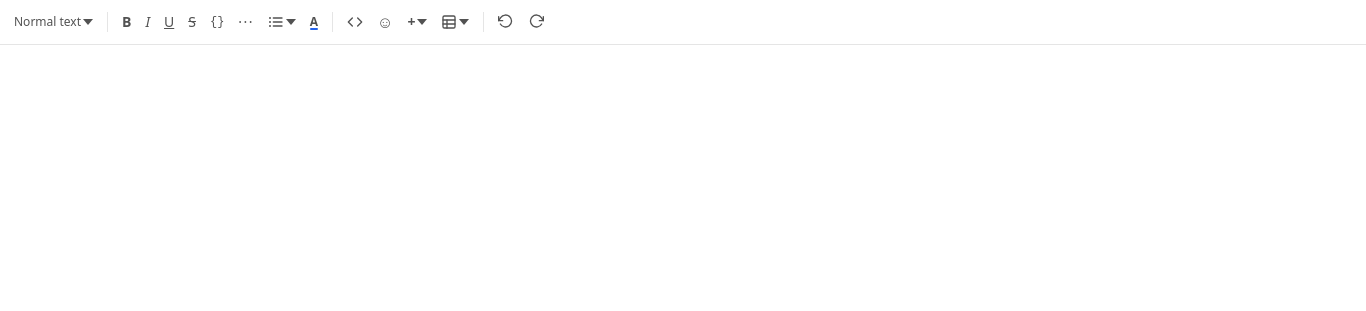
Test case: EditorToolbar › TableMenu opens and shows row/column/table operations
Press the mouse on the button named "Table options": (456, 22) [436, 6, 476, 38]
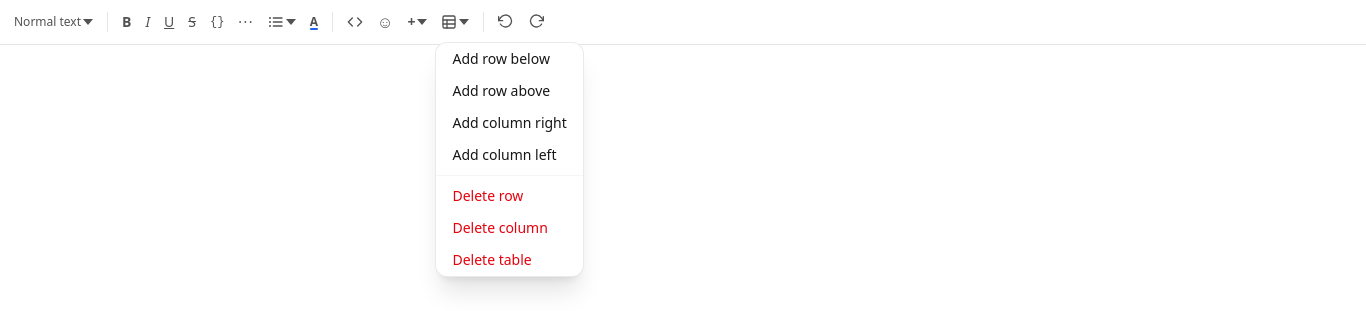
Now the menu item "Add row below" is shown, box [436, 43, 583, 75]
Now the menu item "Add row above" is shown, box [436, 75, 583, 107]
Now the menu item "Add column right" is shown, box [436, 107, 583, 139]
